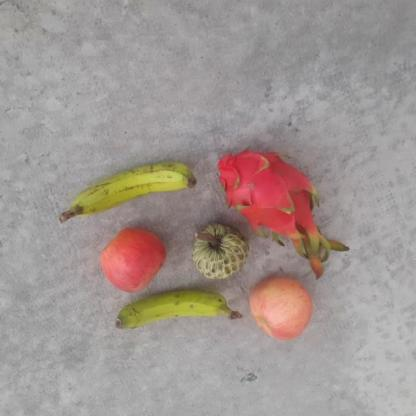annona: (188, 222, 246, 279)
apple: (245, 274, 318, 342), (99, 227, 164, 292)
banana: (76, 159, 196, 222), (112, 286, 234, 336)
pitaya: (215, 146, 317, 230)
